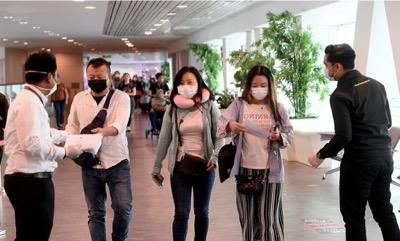with_mask: (85, 72, 107, 95), (177, 78, 198, 100), (249, 81, 269, 102), (323, 59, 337, 82), (46, 71, 57, 99), (114, 72, 119, 78), (132, 76, 136, 82)
without_mask: (122, 73, 129, 82), (157, 91, 164, 99), (157, 76, 164, 83)
